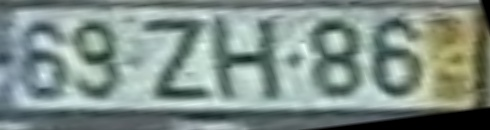6: (368, 15, 429, 101), (16, 18, 76, 105)
8: (303, 18, 371, 99)
9: (69, 19, 129, 104)
H: (209, 16, 287, 104)
Z: (139, 16, 216, 102)
